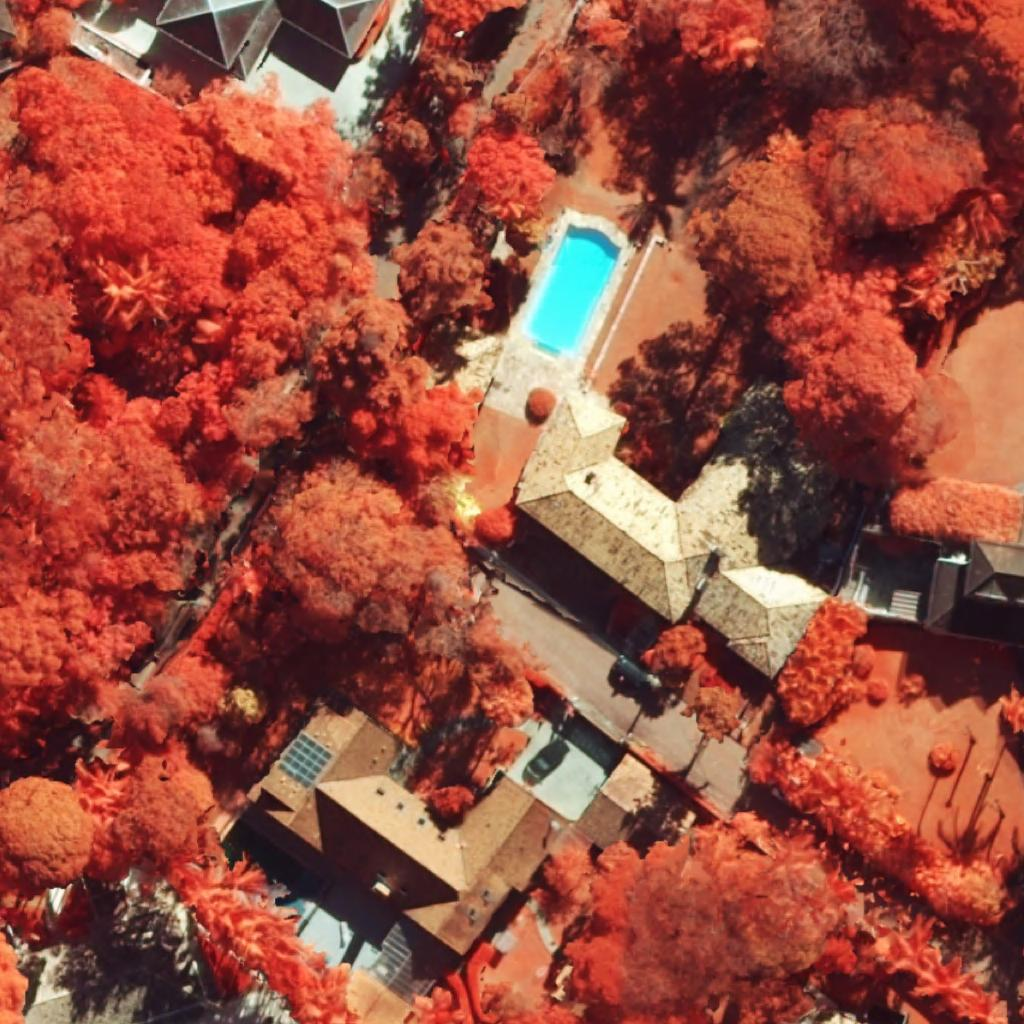pool: (523, 224, 622, 357)
